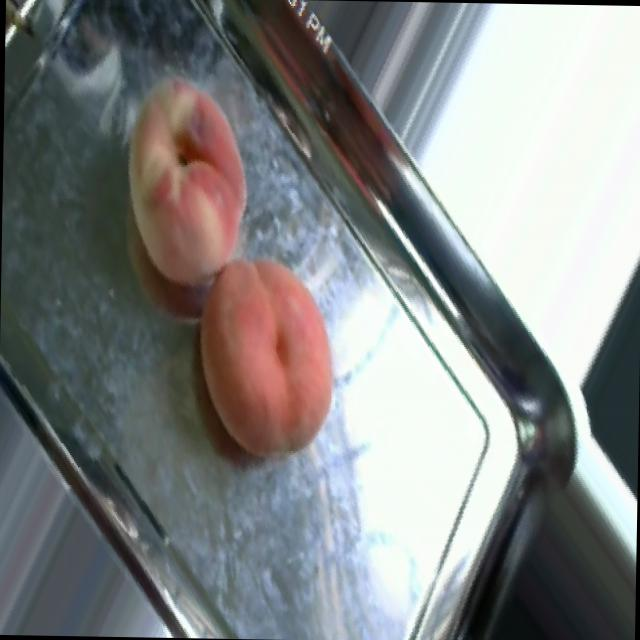Fruit: (165, 234, 362, 482), (98, 62, 268, 309)
